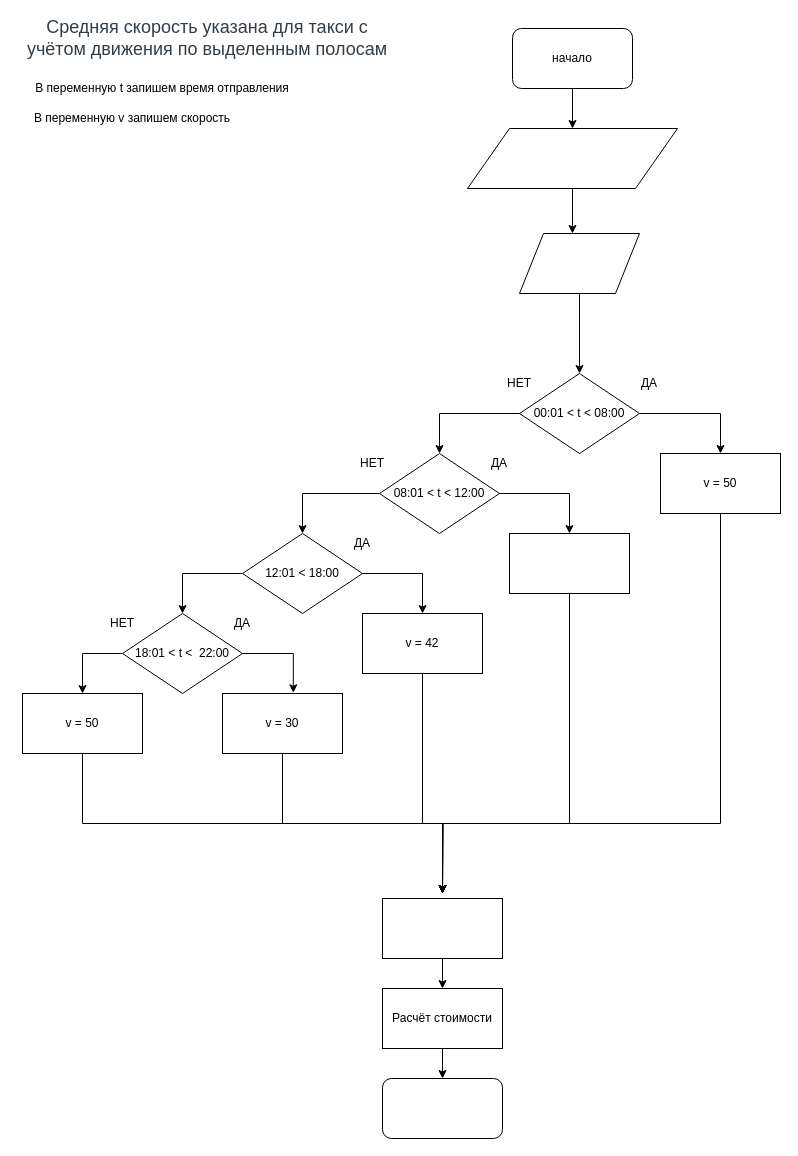
Image size: 798x1156. Some labels were removed from this diagram. Here are the shapes that lost their labels. From the top down, the centre of each, then its label:
At point (572, 158): "Ввести путь(откуда и куда)".
At point (579, 263): "Введите время отправления".
At point (569, 563): "v = 35".
At point (442, 928): "Расчет пути".
At point (442, 1108): "конец".
